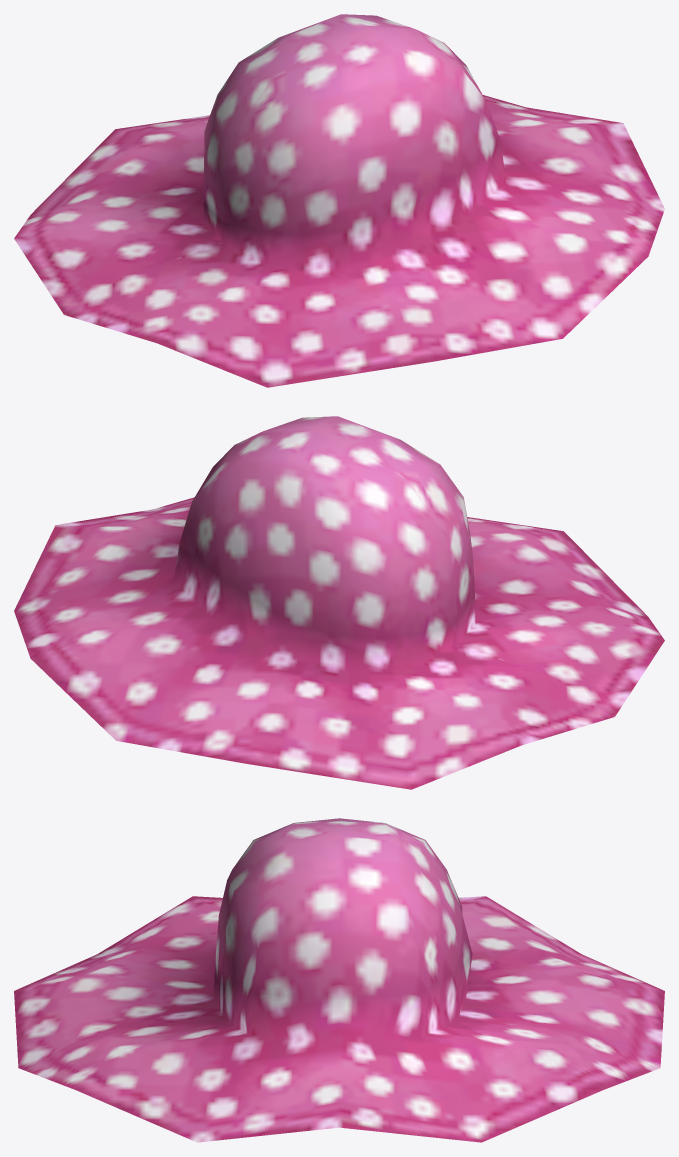
File: hat_0450058.FBX
3 views of the same model, one above another, from view 1: azimuth 30°, elevation 25°; view 2: azimuth 150°, elevation 25°; view 3: azimuth 270°, elevation 25° (orthographic). The views are drawn at different scales.
Parts seen in each view (by area): view 1: hat_0450058; view 2: hat_0450058; view 3: hat_0450058.
Boxes of the visible parts, bbox=[...] form: hat_0450058: bbox=[14, 14, 664, 387]; hat_0450058: bbox=[14, 416, 664, 789]; hat_0450058: bbox=[14, 818, 664, 1142].
Size of the model in its own units: 53.9 by 20.33 by 53.02.
